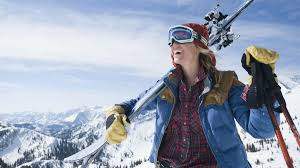skis: (64, 1, 252, 165)
